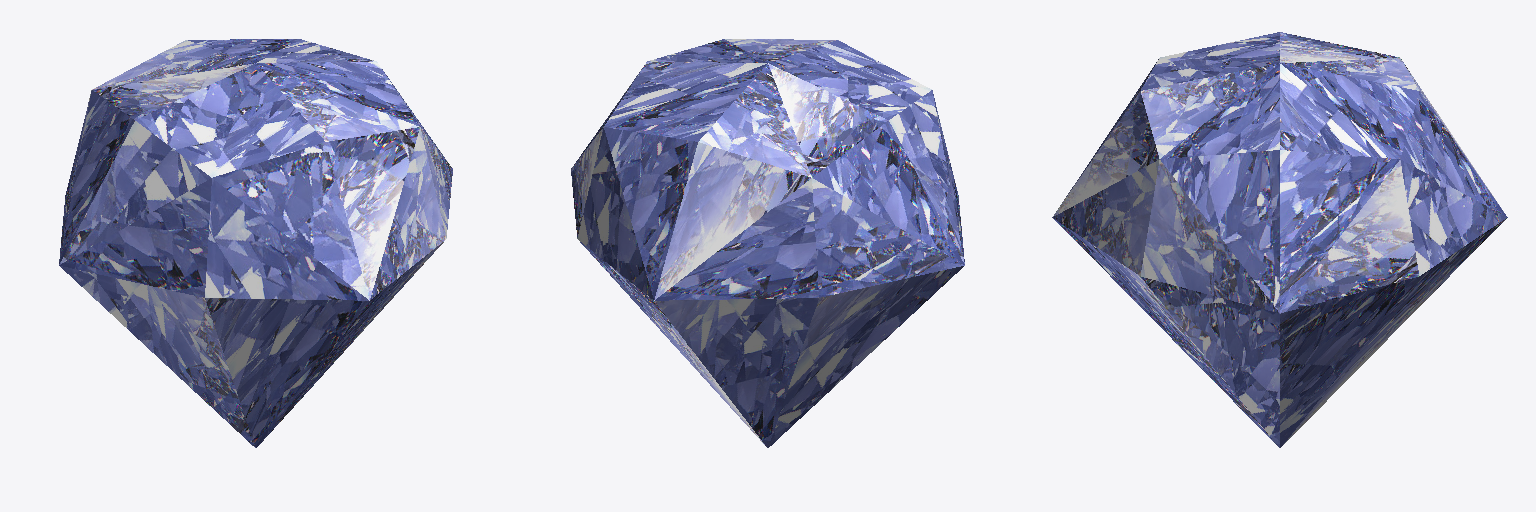
3 renders of one model, left to right at view 1: azimuth 30°, elevation 25°; view 2: azimuth 150°, elevation 25°; view 3: azimuth 270°, elevation 25°, orthographic.
Bounding box in the file's own units: 5.35 × 5 × 5.35.
1 materials, 1 textured.